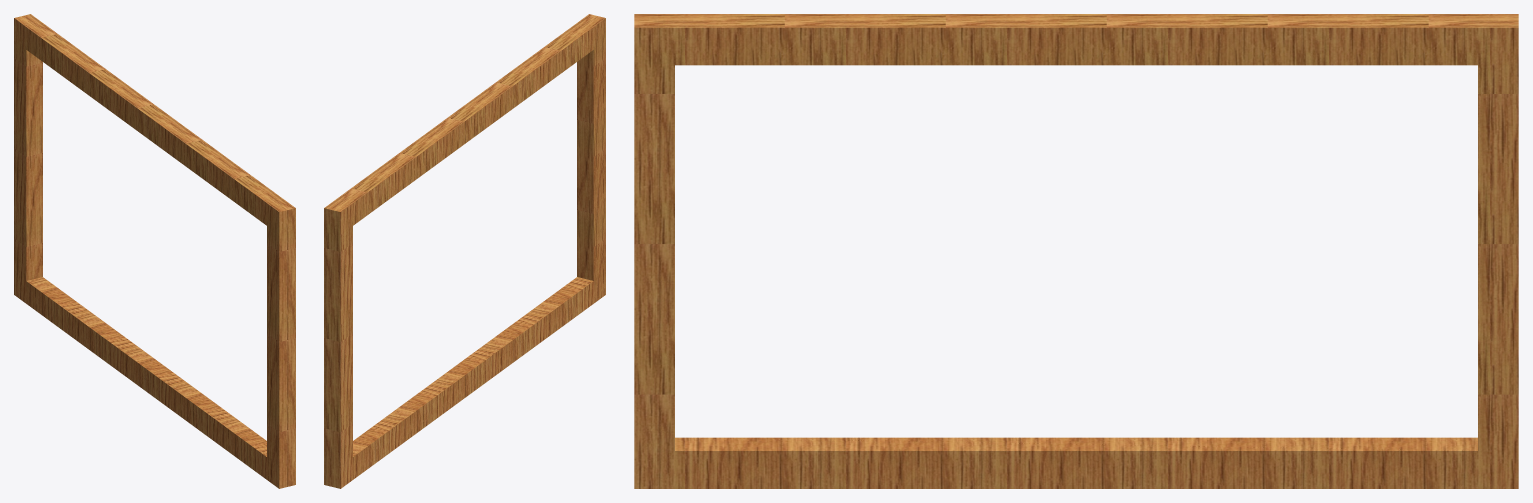
The model's file is WindowFrame.fbx.
3 renders of one model, left to right at view 1: azimuth 30°, elevation 25°; view 2: azimuth 150°, elevation 25°; view 3: azimuth 270°, elevation 25°, orthographic. The views are drawn at different scales.
Visible parts, largest first — view 1: Window-frame; view 2: Window-frame; view 3: Window-frame.
Boxes of the visible parts, x1,y1,x2,y2 form: Window-frame: (14, 14, 295, 488); Window-frame: (324, 14, 605, 488); Window-frame: (634, 14, 1518, 488).
Bounding box in the file's own units: 4.15 × 65.93 × 114.
Materials: 1 (1 with a texture image).
